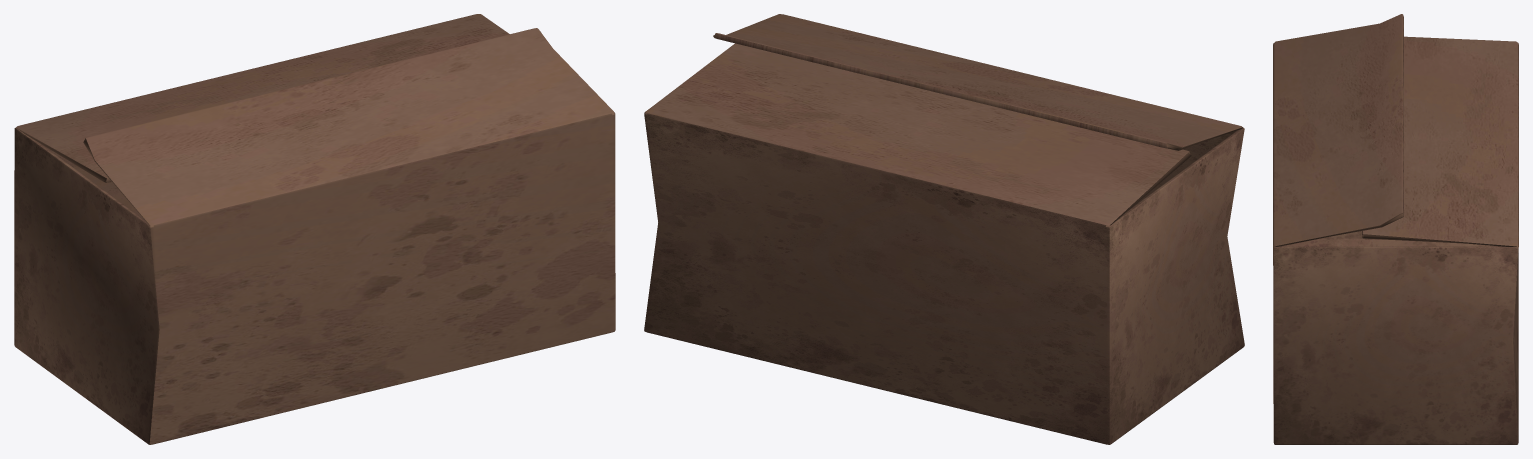
The picture shows the model from 3 angles, left to right: view 1: azimuth 30°, elevation 25°; view 2: azimuth 150°, elevation 25°; view 3: azimuth 270°, elevation 25°; orthographic projection. The views are drawn at different scales.
Parts seen in each view (by area): view 1: Box002; view 2: Box002; view 3: Box002.
Boxes of the visible parts, x1=… form: Box002: x1=14, y1=14, x2=615, y2=444; Box002: x1=644, y1=14, x2=1244, y2=444; Box002: x1=1273, y1=14, x2=1518, y2=444.
Size of the model in its own units: 40.52 by 21.04 by 20.43.
